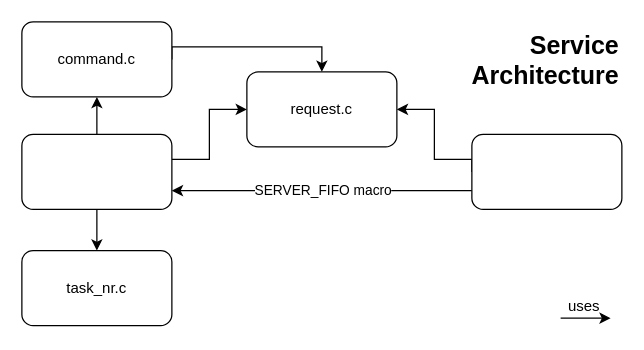
This 644x350 diagram has some shape labels left out. Each missing label, with the box of its shape:
client.c: (471, 133, 622, 209)
orchestrator.c: (21, 133, 172, 209)
